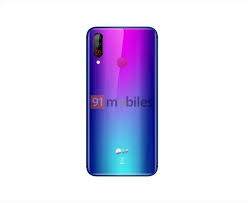lg: (82, 24, 160, 179)
